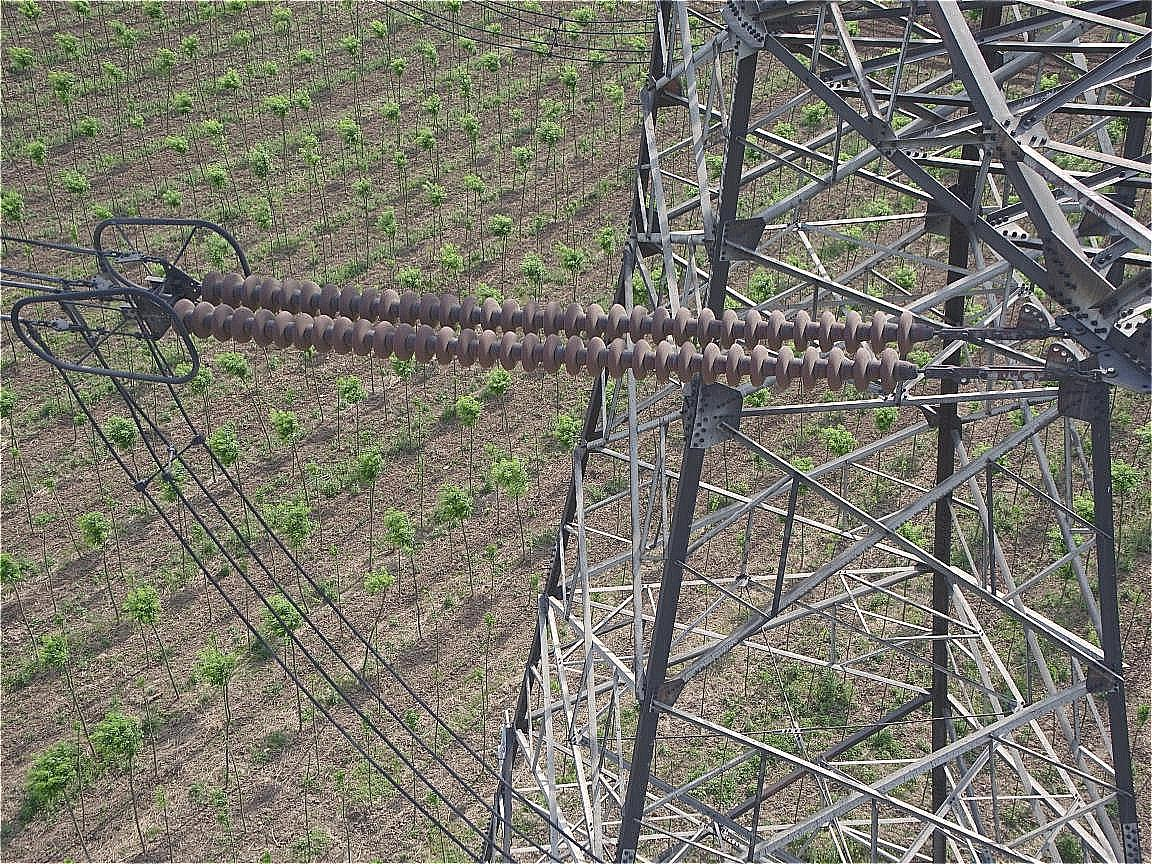insultor1: (152, 257, 940, 400)
